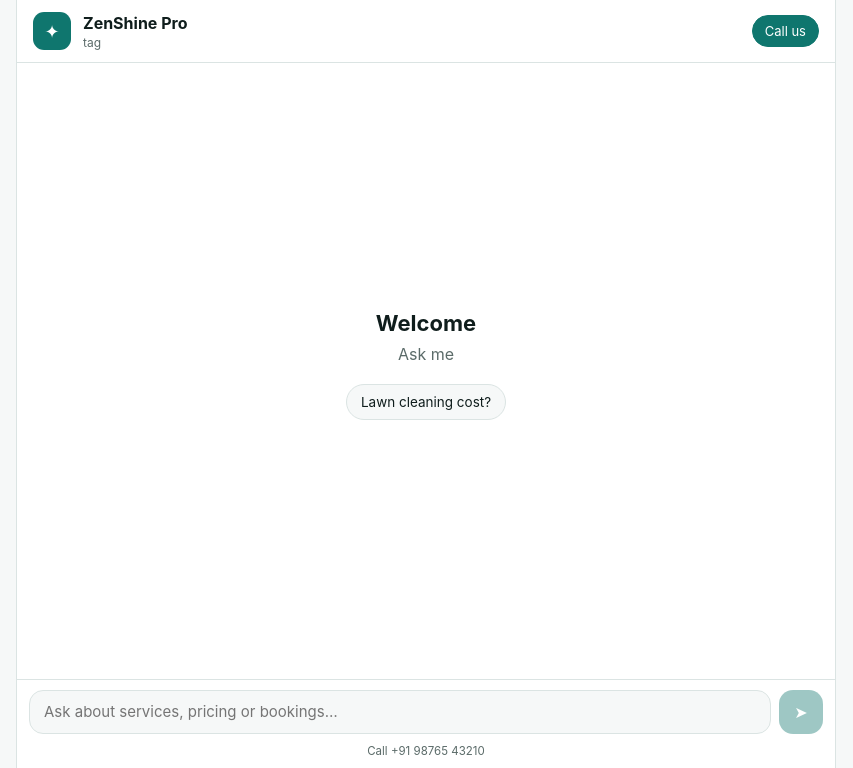
Test: App › surfaces a friendly message when rate limited
Expected: the heading "Welcome" is shown, 376,310 -> 476,336
Type "hello" into the text box named "Message".
click(400, 712); type("hello")  # box 29,690 -> 771,734
Then press Enter
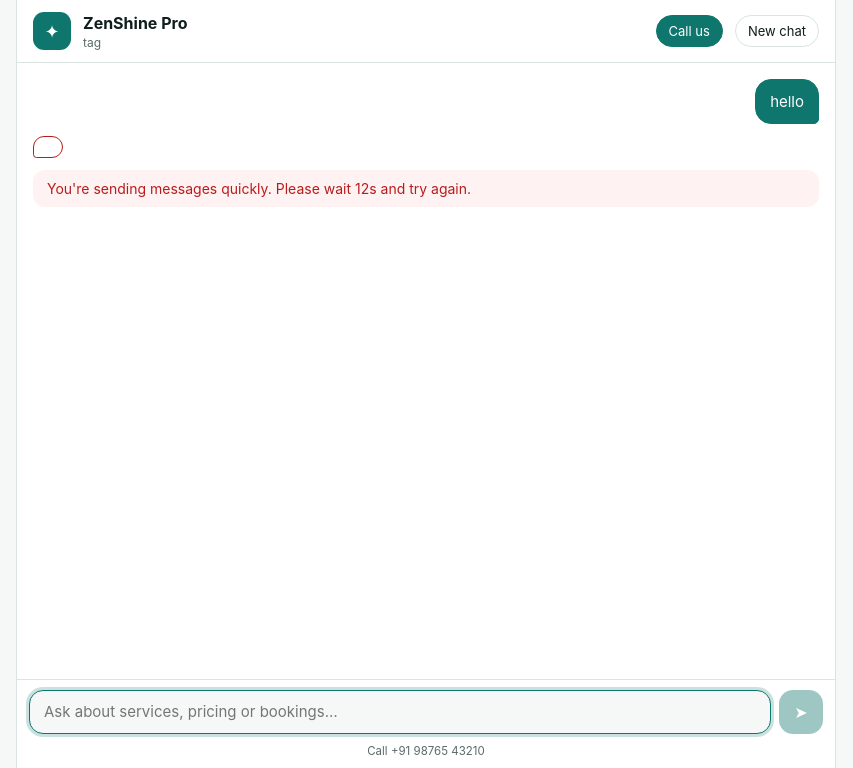
Expected: the message shows "wait 12s", 47,180 -> 471,197
